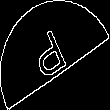P_SE: (32, 24, 78, 86)
